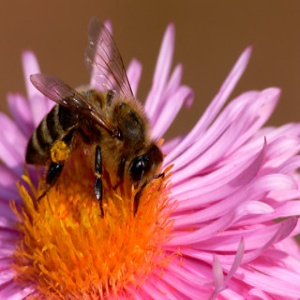bee: (24, 15, 166, 222)
